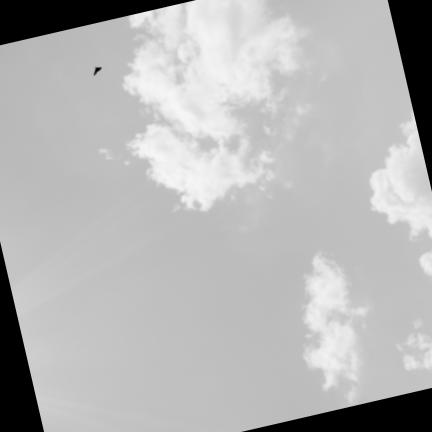Shahed: (93, 64, 103, 76)
